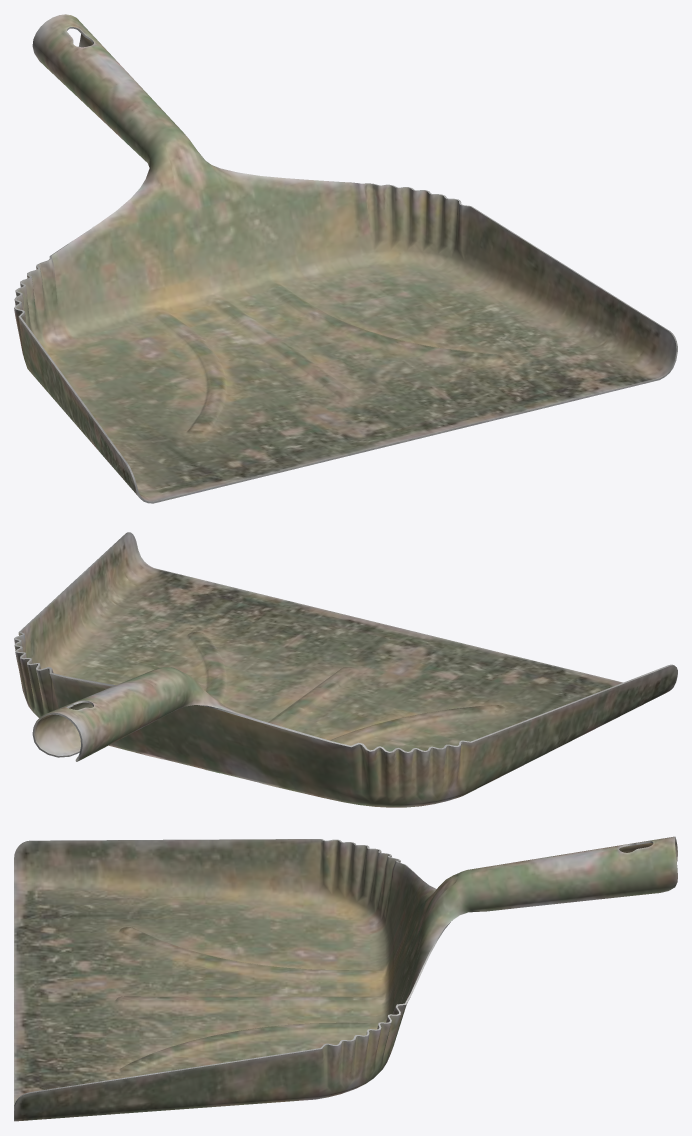
The model's file is dustpan.glb.
The picture shows the model from 3 angles, top to bottom: view 1: azimuth 30°, elevation 25°; view 2: azimuth 150°, elevation 25°; view 3: azimuth 270°, elevation 25°; orthographic projection. The views are drawn at different scales.
Visible parts, largest first — view 1: dustpan; view 2: dustpan; view 3: dustpan.
Boxes of the visible parts, bbox=[...] form: dustpan: bbox=[14, 14, 677, 503]; dustpan: bbox=[14, 532, 677, 807]; dustpan: bbox=[14, 836, 677, 1121].
Size of the model in its own units: 0.3321 by 0.1003 by 0.368.
Materials: 1 (1 with a texture image).
